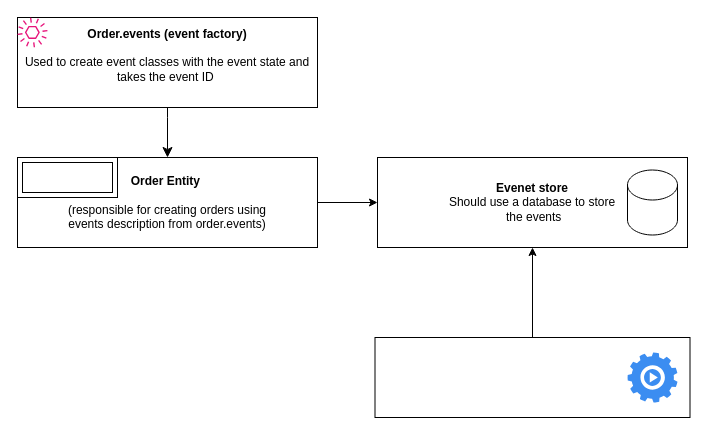
The diagram is 708 pixels wide and 435 high, and some of its shapes have lost their labels. Here are the shapes that lost their labels. From the top down, the box of each, then its label:
(16, 156, 118, 198): Entity
(374, 336, 690, 418): Event.util used to replay events
